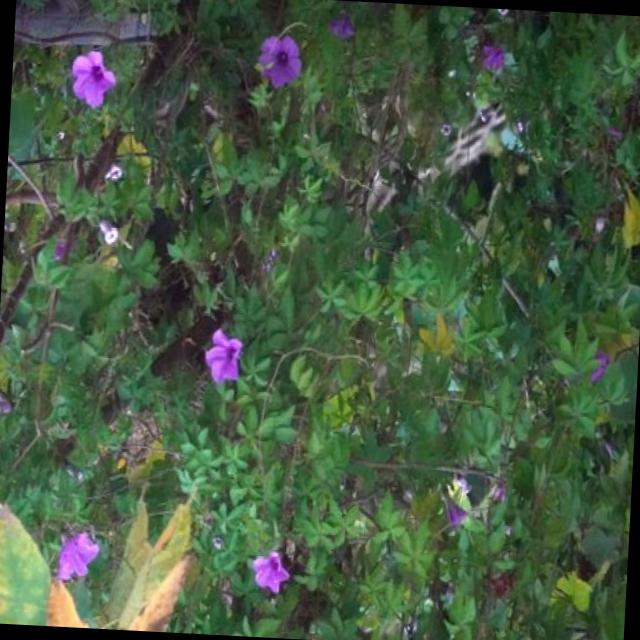ipomoea: (65, 44, 122, 114), (251, 28, 307, 94), (50, 522, 104, 588), (198, 322, 250, 390), (247, 542, 296, 598)
